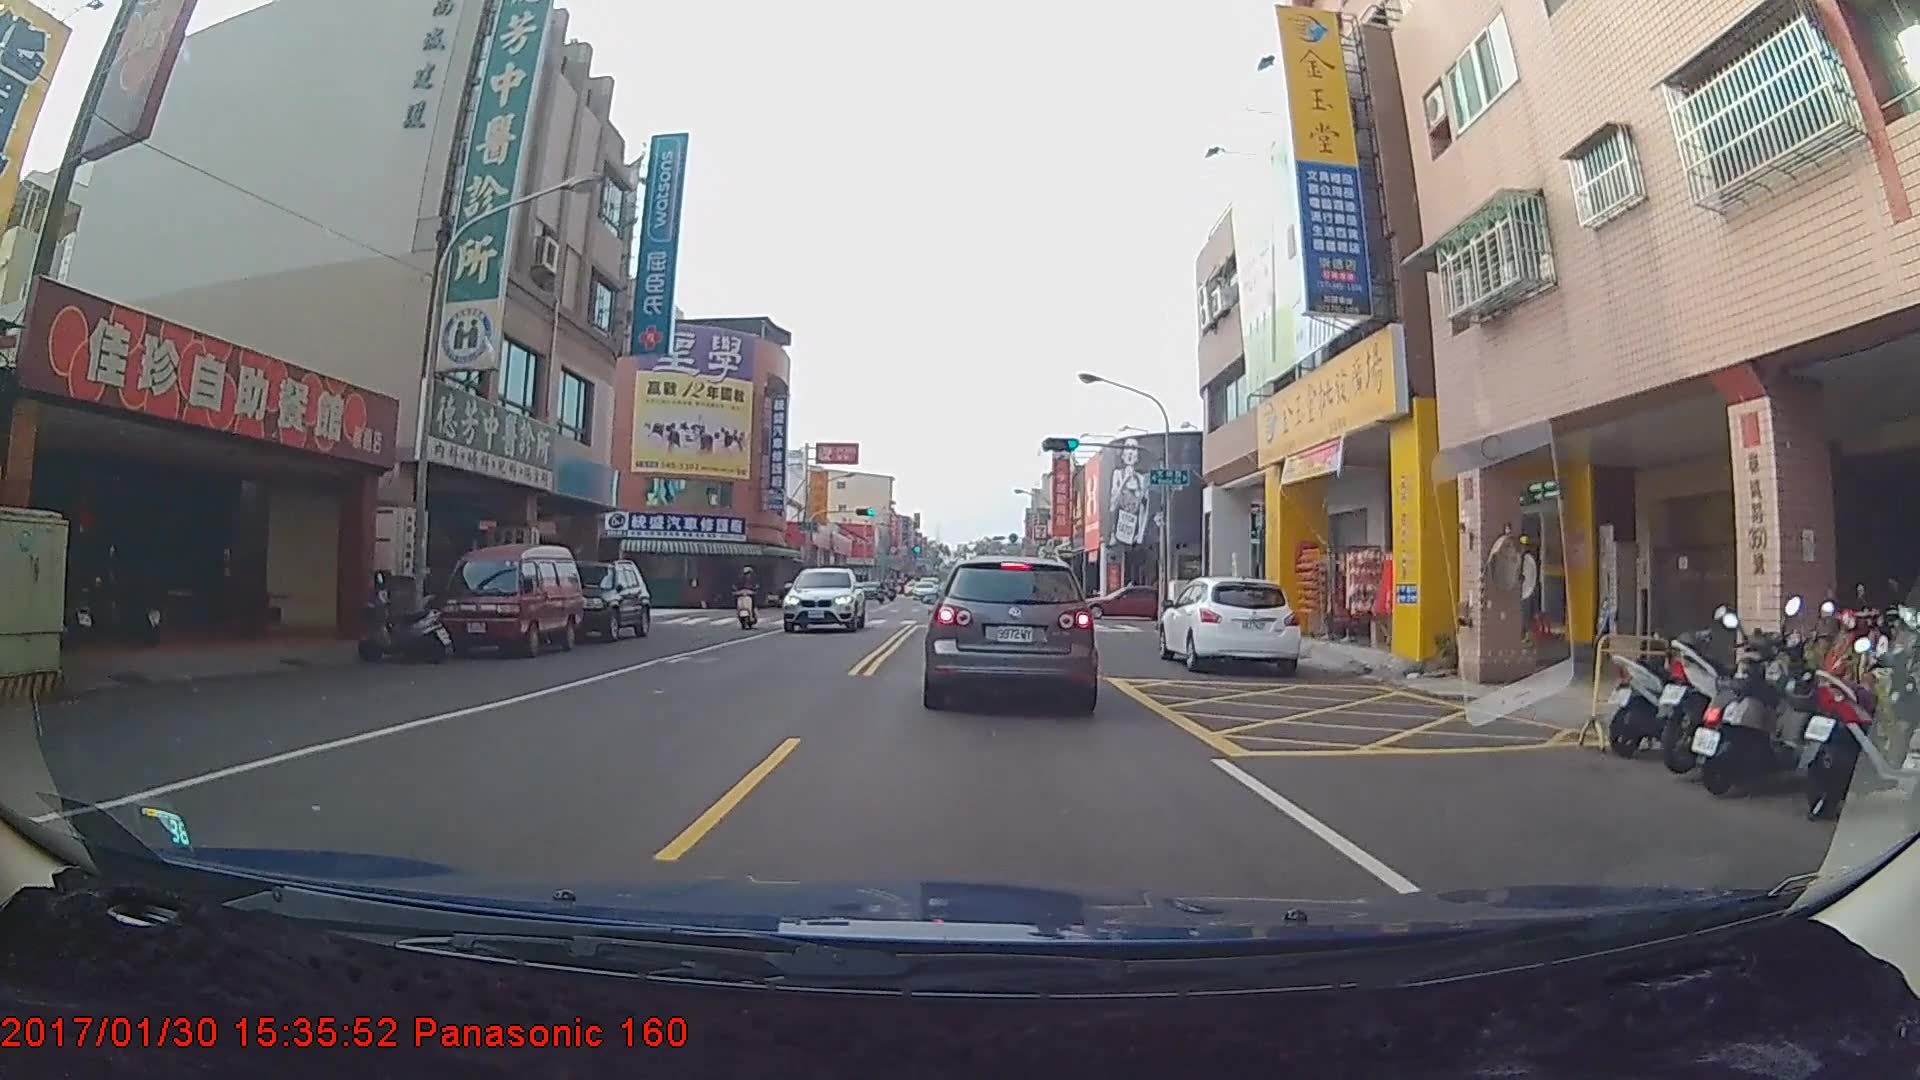rider: (728, 561, 768, 630)
vehicle: (922, 553, 1098, 709), (440, 539, 582, 653), (1160, 573, 1301, 675), (539, 557, 649, 642), (788, 558, 867, 630), (1074, 589, 1184, 621), (913, 577, 938, 597)
